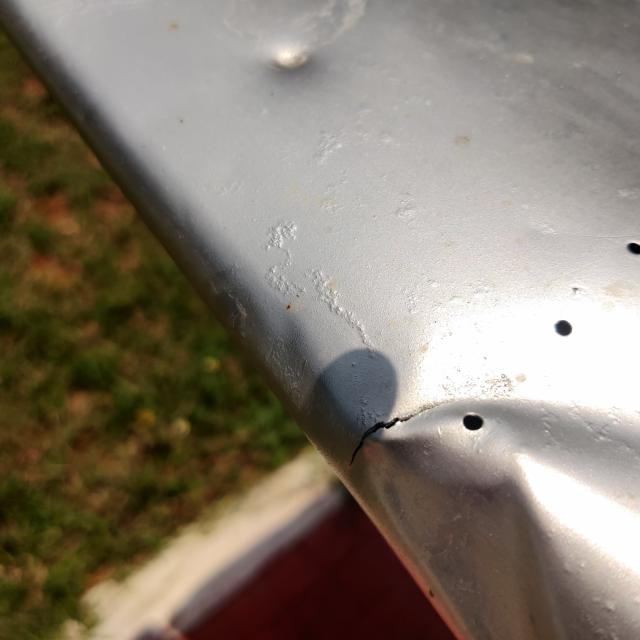crack: (342, 389, 449, 474)
dent: (333, 346, 640, 640), (239, 13, 346, 109)
